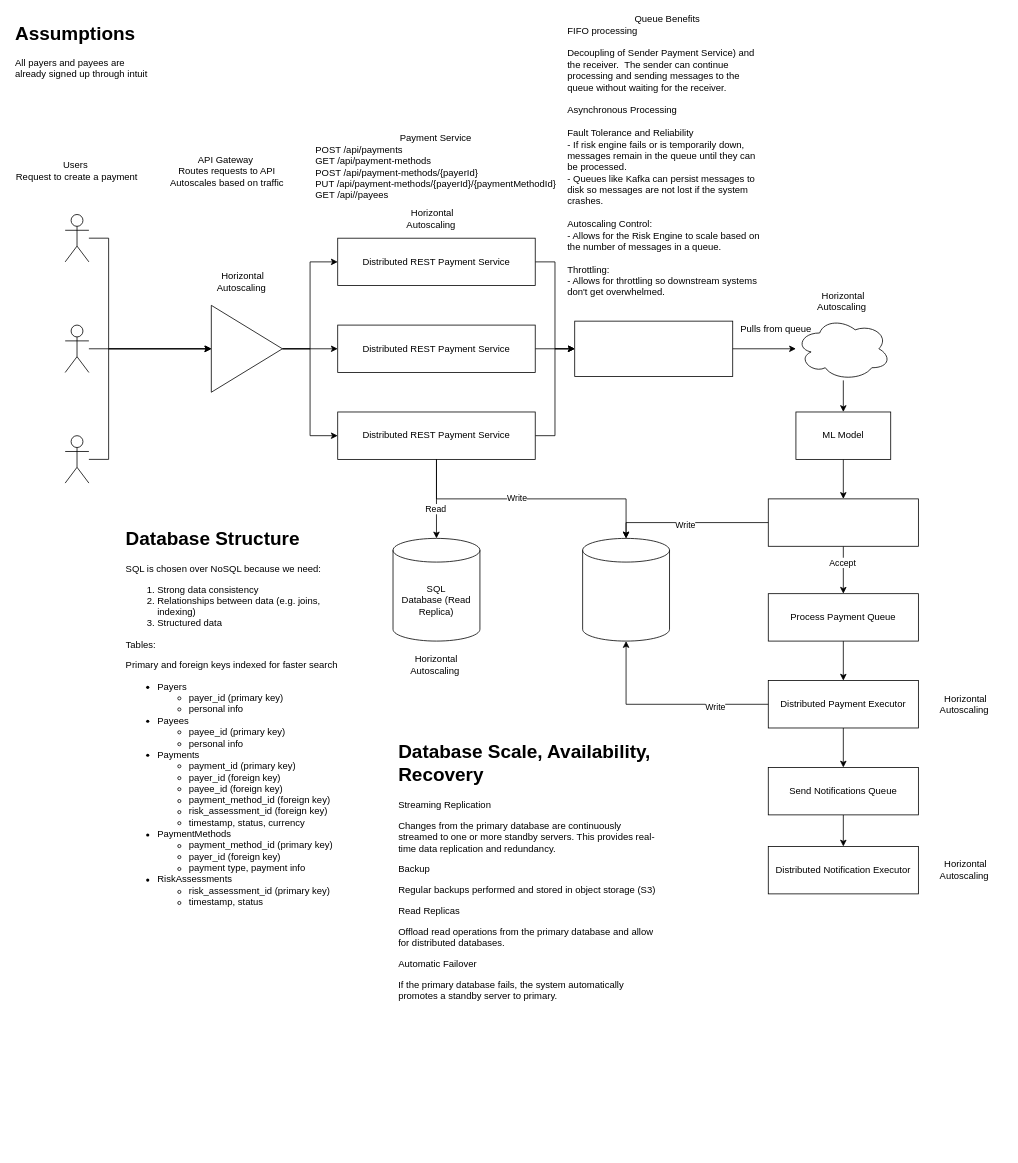
Image size: 1018x1163. Some labels were removed from this diagram. The shapes that lost their labels are listed below. From the top down, each one's box as (x1, y1, x2, y2) in pixels, then its label:
(211, 305, 282, 392): API Gateway
(574, 320, 733, 376): Kafka Queue Payments
(795, 316, 891, 380): Risk Engine
(767, 498, 918, 546): Accept/Deny Payment Confidence Score
(582, 538, 670, 641): SQL Database (Write)
